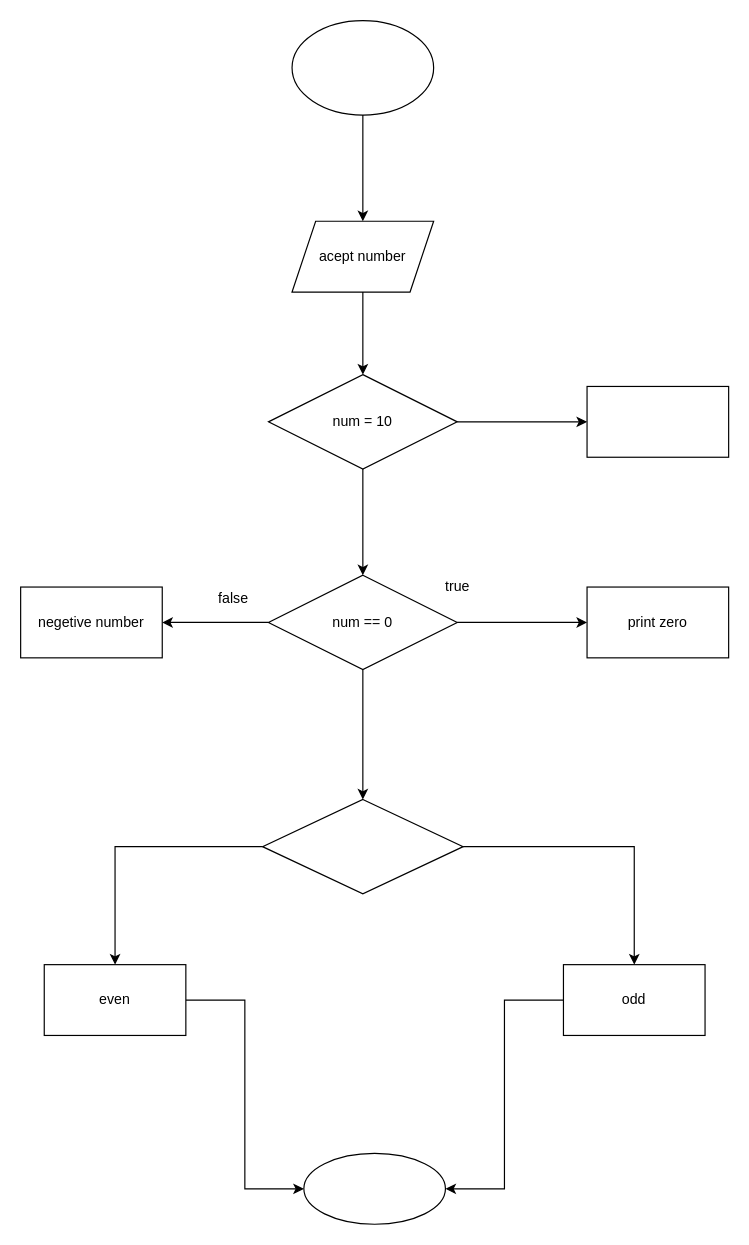
This 749x1245 diagram has some shape labels left out. Here are the shapes that lost their labels. From the top down, the centre of each, then its label:
At point 362,67: "start".
At point 657,421: "print positive".
At point 362,846: "if num % 2 == 0".
At point 374,1188: "stop".
